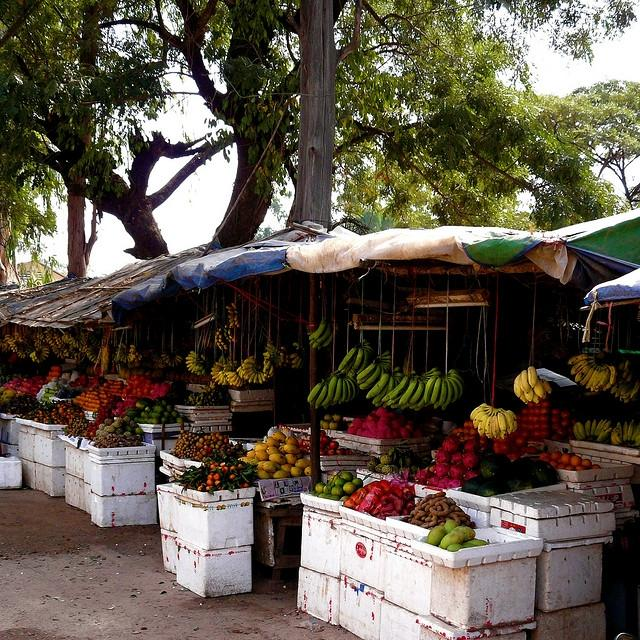apple: (398, 427, 412, 439), (393, 417, 408, 427), (376, 406, 388, 417), (581, 458, 592, 469), (348, 426, 360, 436), (556, 427, 568, 437), (376, 420, 391, 427), (539, 452, 551, 460), (540, 414, 548, 423), (387, 431, 394, 439), (540, 438, 546, 442)
banana: (358, 364, 382, 390), (348, 344, 366, 378), (338, 344, 358, 372), (370, 372, 390, 397), (402, 378, 420, 404), (308, 378, 326, 402), (372, 381, 390, 404), (356, 360, 376, 380), (575, 362, 595, 382), (446, 376, 464, 398), (580, 364, 598, 386), (502, 409, 518, 433), (344, 376, 358, 402), (356, 350, 371, 374), (472, 408, 490, 428), (313, 318, 328, 339), (442, 378, 453, 406), (431, 378, 442, 403), (567, 354, 594, 364), (333, 376, 343, 402), (590, 366, 600, 392), (485, 412, 495, 438), (520, 369, 530, 394), (528, 366, 538, 388), (514, 374, 523, 398), (534, 378, 544, 398), (628, 420, 636, 445), (540, 378, 552, 394), (341, 378, 349, 402), (492, 412, 499, 438), (577, 422, 587, 438), (598, 367, 605, 388), (611, 428, 619, 446), (424, 382, 434, 396), (310, 393, 320, 407), (622, 422, 628, 444), (616, 428, 624, 444), (590, 420, 596, 436), (623, 369, 631, 380), (267, 344, 277, 352), (290, 357, 300, 364), (243, 358, 254, 364), (188, 363, 196, 371), (230, 374, 238, 382), (260, 372, 266, 382), (268, 365, 274, 375), (626, 372, 632, 382), (287, 354, 298, 358), (175, 357, 182, 363), (212, 374, 220, 379), (186, 360, 196, 364), (382, 356, 392, 360), (241, 363, 249, 368), (88, 351, 94, 357), (228, 314, 235, 319), (26, 348, 34, 352), (228, 328, 232, 336), (160, 358, 164, 366), (281, 346, 286, 352), (195, 366, 200, 372), (78, 341, 82, 348), (226, 372, 233, 376), (18, 352, 23, 357), (172, 359, 175, 367), (424, 376, 432, 379), (201, 354, 205, 360), (266, 358, 272, 362), (74, 352, 78, 357), (53, 347, 57, 351), (156, 358, 160, 362), (28, 342, 32, 346), (41, 343, 46, 346), (215, 333, 218, 338), (165, 358, 168, 362), (219, 334, 222, 338), (136, 356, 138, 362), (9, 342, 14, 344), (62, 336, 64, 340), (223, 345, 227, 347), (132, 356, 134, 358)
orange: (570, 455, 582, 466), (561, 452, 571, 464), (550, 451, 562, 461), (582, 459, 592, 469), (540, 452, 550, 460), (541, 456, 552, 463), (591, 464, 602, 470), (206, 479, 214, 486), (550, 461, 558, 468), (214, 474, 220, 481), (56, 366, 61, 372), (214, 462, 220, 467), (224, 467, 229, 472), (100, 386, 105, 391), (198, 486, 203, 491), (48, 376, 52, 381), (76, 396, 81, 400)
